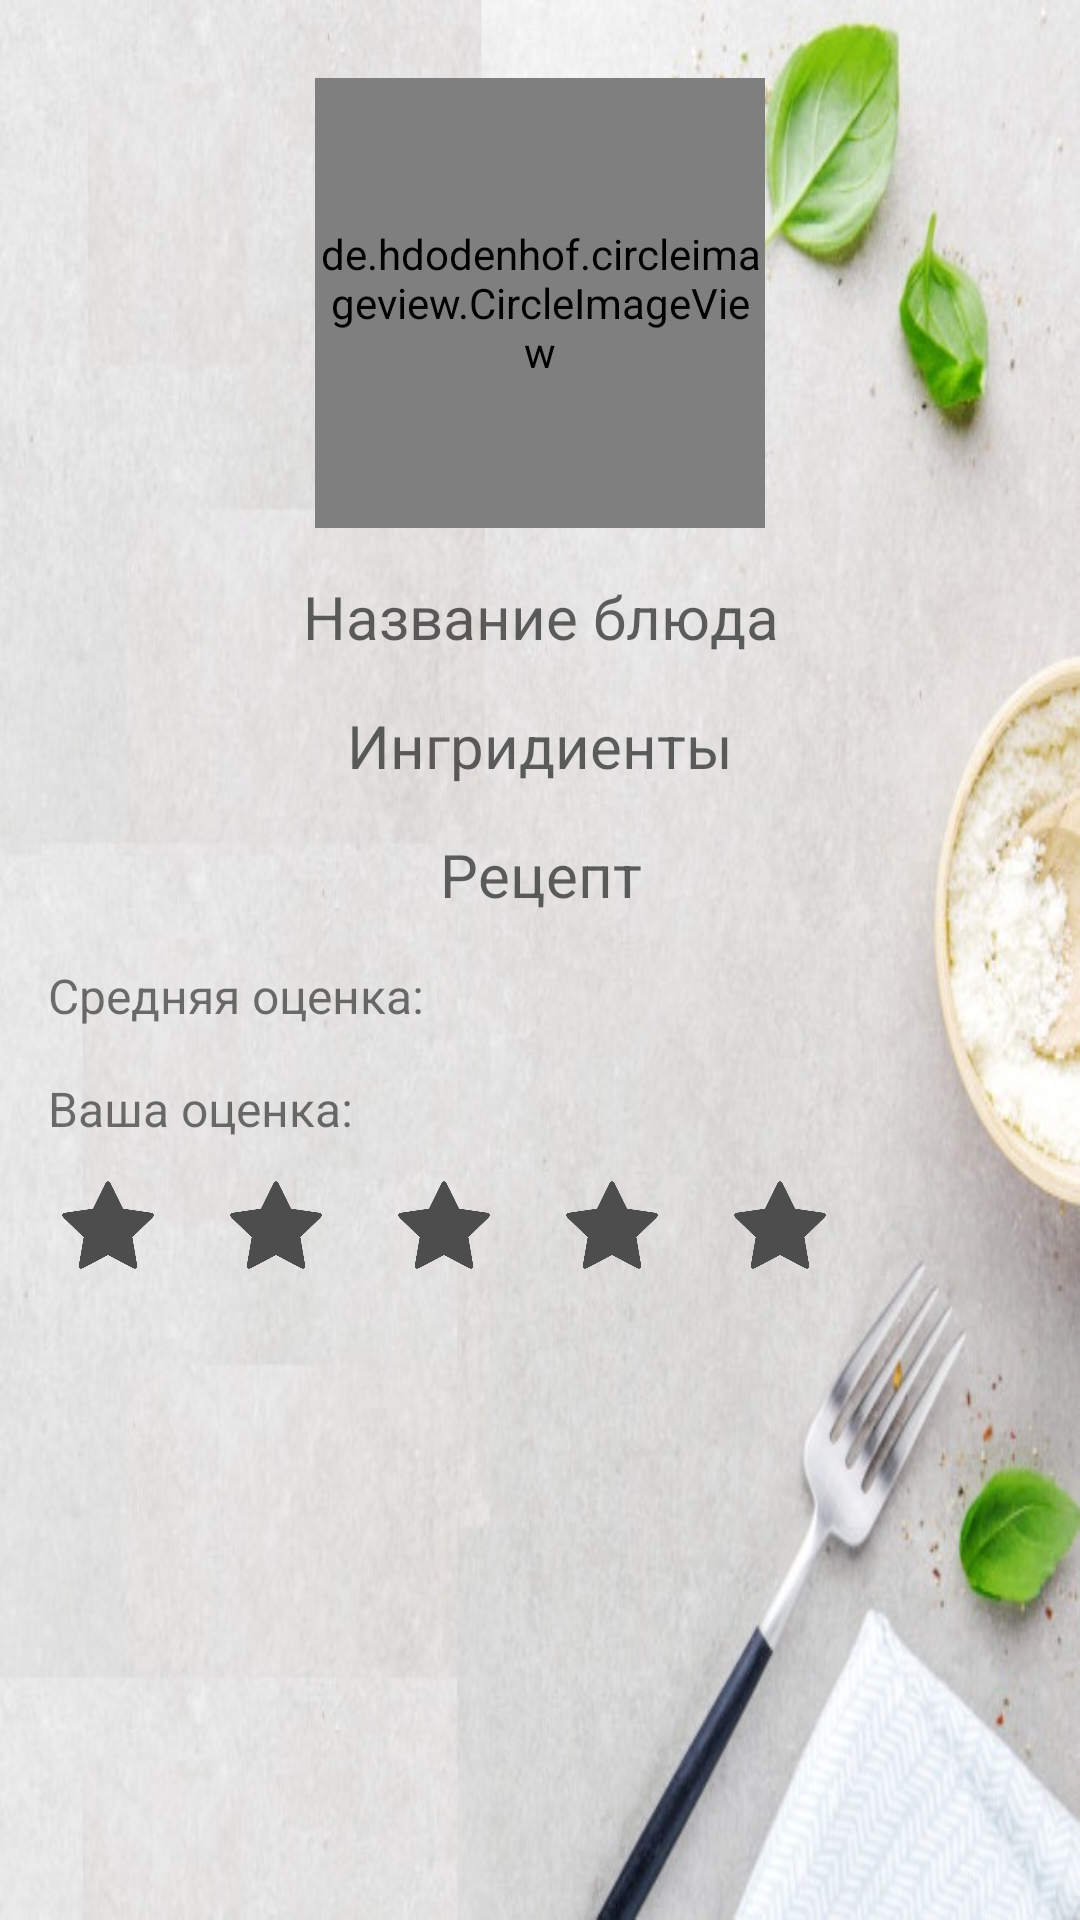

Locate icon controls on the screen. Image size 1080x1920, boxes as (x1, y1, x2, y2).
star: (62, 1181, 154, 1269), (230, 1181, 322, 1269), (398, 1181, 490, 1269), (566, 1181, 658, 1269), (734, 1181, 826, 1269)
